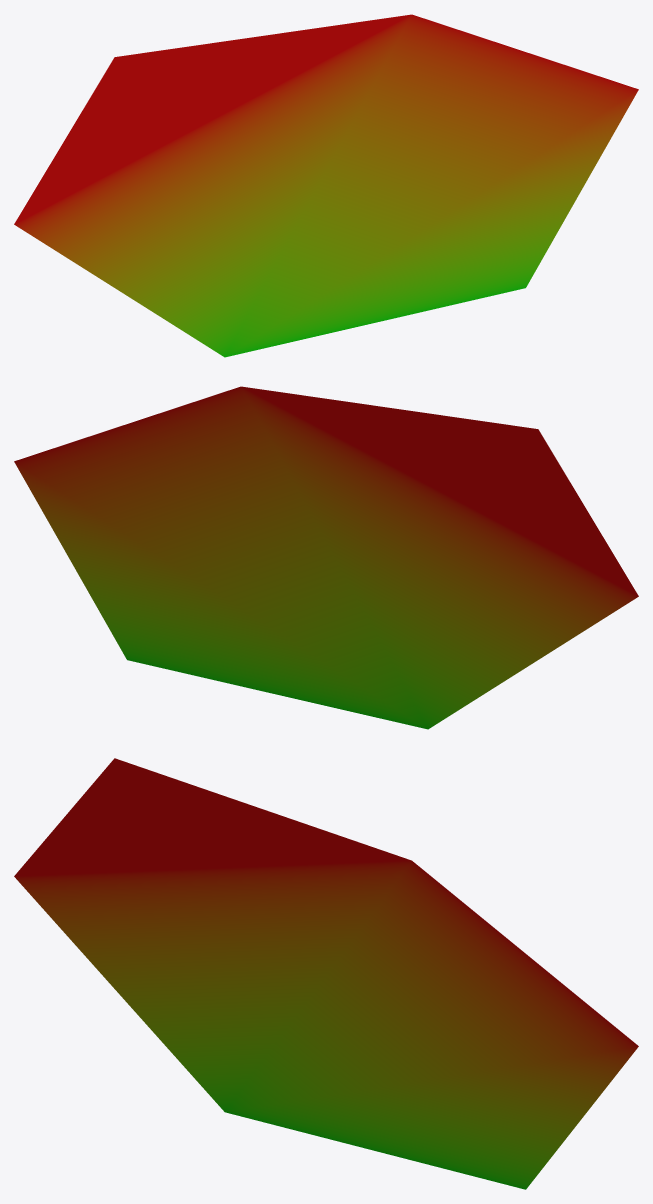
File: Silver Lady Fern_LOD5_Var2_ubolejkia.fbx
3 views of the same model, one above another, from view 1: azimuth 30°, elevation 25°; view 2: azimuth 150°, elevation 25°; view 3: azimuth 330°, elevation 25° (orthographic).
Parts seen in each view (by area): view 1: _818a_Var2_LOD5; view 2: _818a_Var2_LOD5; view 3: _818a_Var2_LOD5.
Boxes of the visible parts, x1,y1,x2,y2 form: _818a_Var2_LOD5: (14, 14, 638, 357); _818a_Var2_LOD5: (14, 386, 638, 729); _818a_Var2_LOD5: (14, 758, 638, 1189).
Size of the model in its own units: 164 by 83.06 by 1.35e-05.
